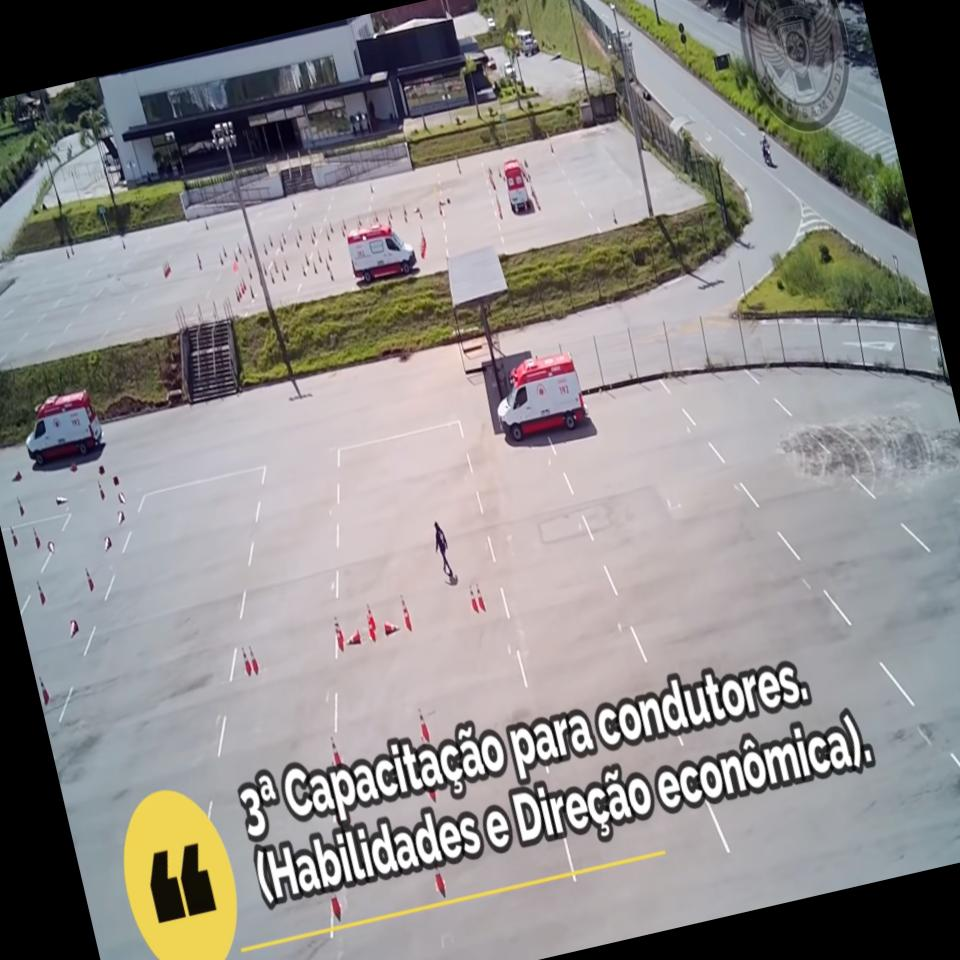bombeiro: (484, 346, 592, 446), (14, 382, 106, 466), (342, 216, 420, 286), (498, 155, 534, 214)
